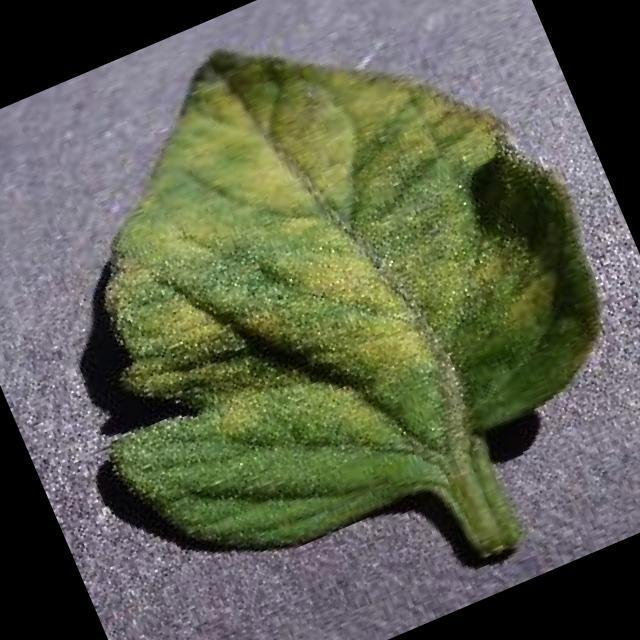Tomato mold leaf: (0, 0, 640, 599)
